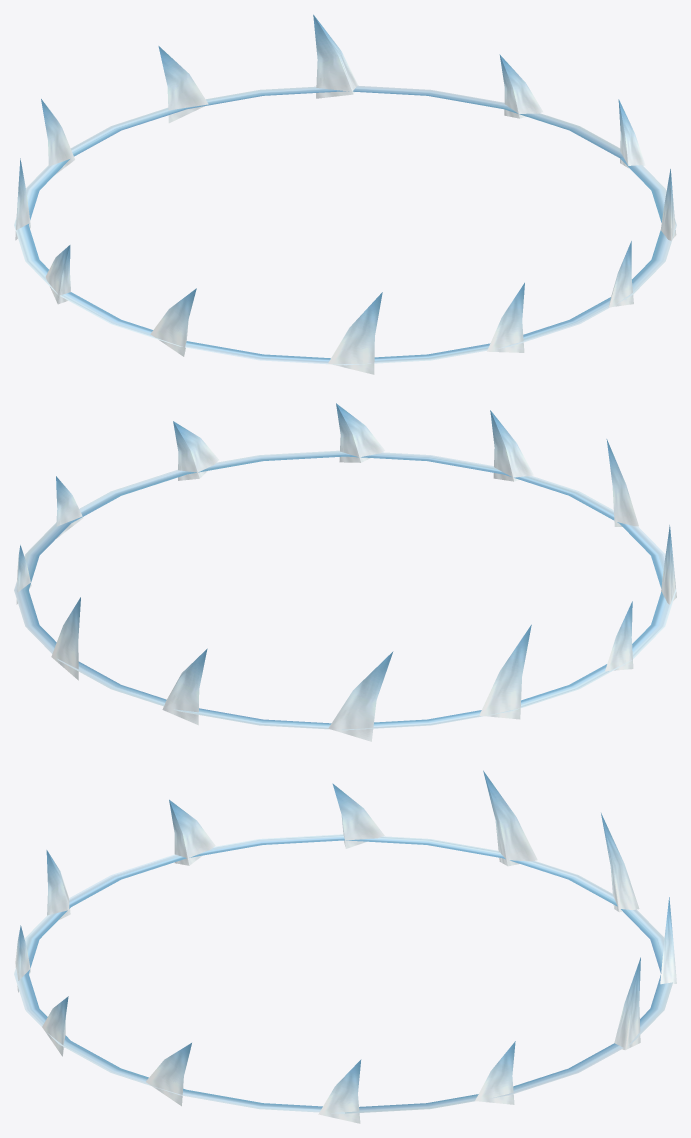
The model's file is struck-ring.glb.
3 renders of one model, top to bottom at view 1: azimuth 30°, elevation 25°; view 2: azimuth 150°, elevation 25°; view 3: azimuth 270°, elevation 25°, orthographic.
Parts seen in each view (by area): view 1: struck-ring; view 2: struck-ring; view 3: struck-ring.
Part boxes in pixels (<box>): struck-ring: <box>14,14,676,374</box>; struck-ring: <box>14,403,676,741</box>; struck-ring: <box>14,770,676,1123</box>.
Size of the model in its own units: 7.17 by 1.11 by 7.17.
1 material, 1 textured.
